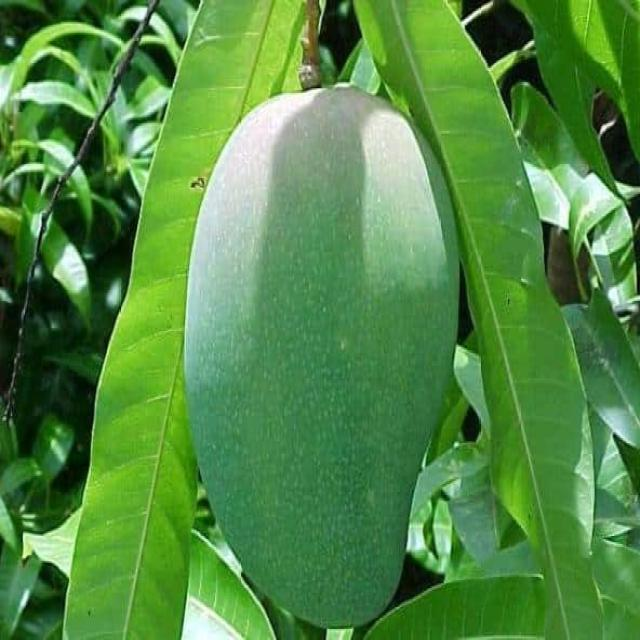mango: (182, 97, 457, 640)
